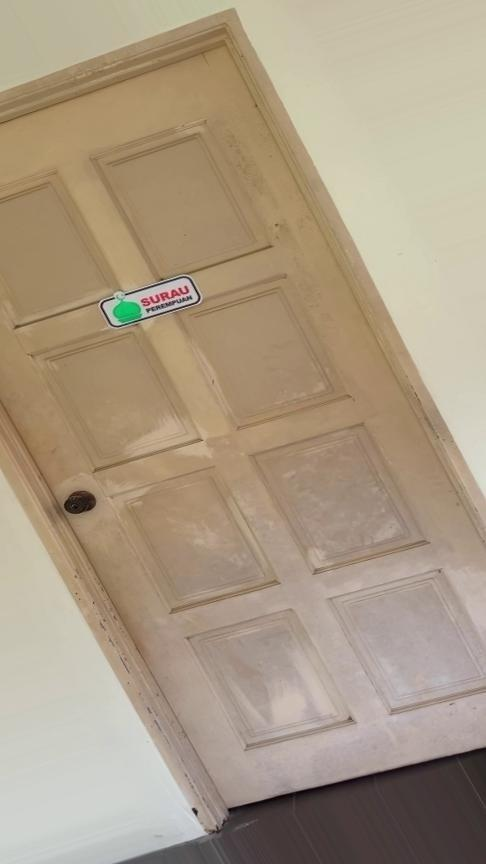door: (0, 8, 486, 822)
